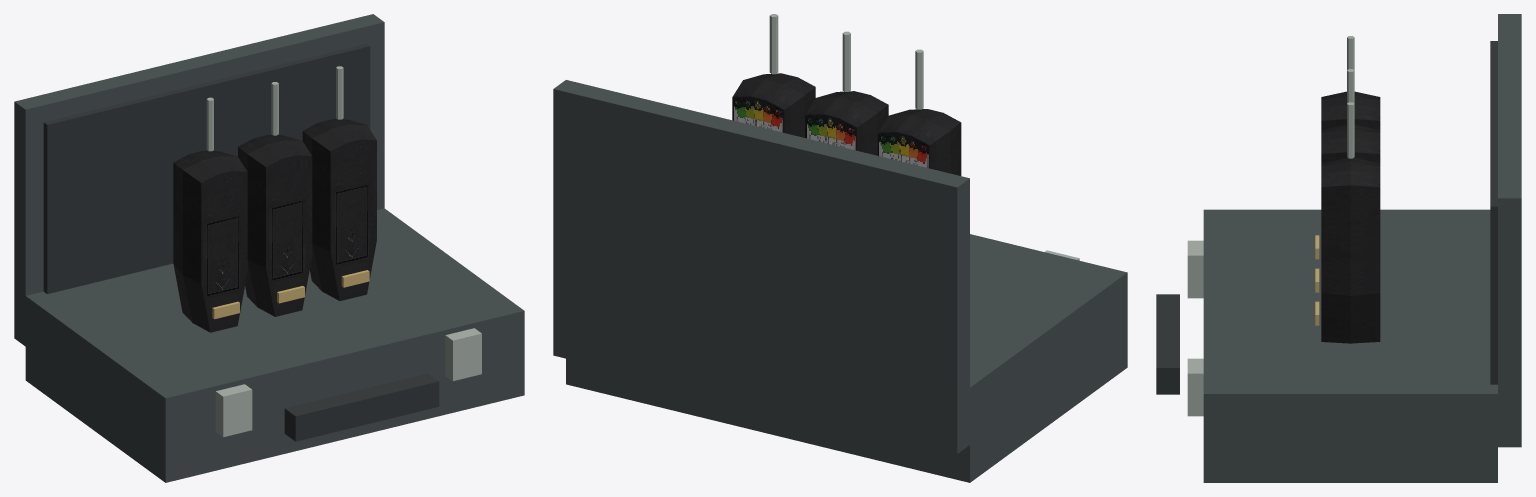
The model's file is blender_emf_array_2.glb.
3 renders of one model, left to right at view 1: azimuth 30°, elevation 25°; view 2: azimuth 150°, elevation 25°; view 3: azimuth 270°, elevation 25°, orthographic. The views are drawn at different scales.
Parts seen in each view (by area): view 1: blender_emf_array_2; view 2: blender_emf_array_2; view 3: blender_emf_array_2.
Part boxes in pixels (x1,y1,x2,y2): blender_emf_array_2: [14, 14, 524, 482]; blender_emf_array_2: [553, 14, 1127, 482]; blender_emf_array_2: [1156, 14, 1521, 482].
Size of the model in its own units: 0.222 by 0.18 by 0.186.
Materials: 1 (1 with a texture image).
